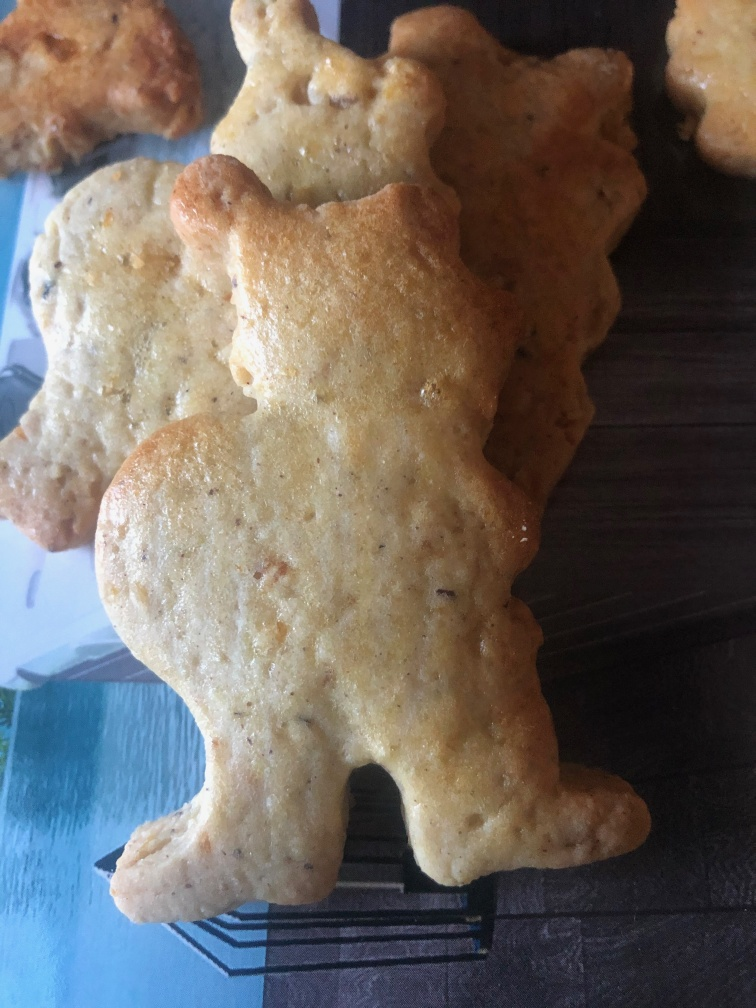christmas tree: (385, 6, 646, 518)
santa claus: (110, 153, 658, 923), (7, 2, 436, 555)
